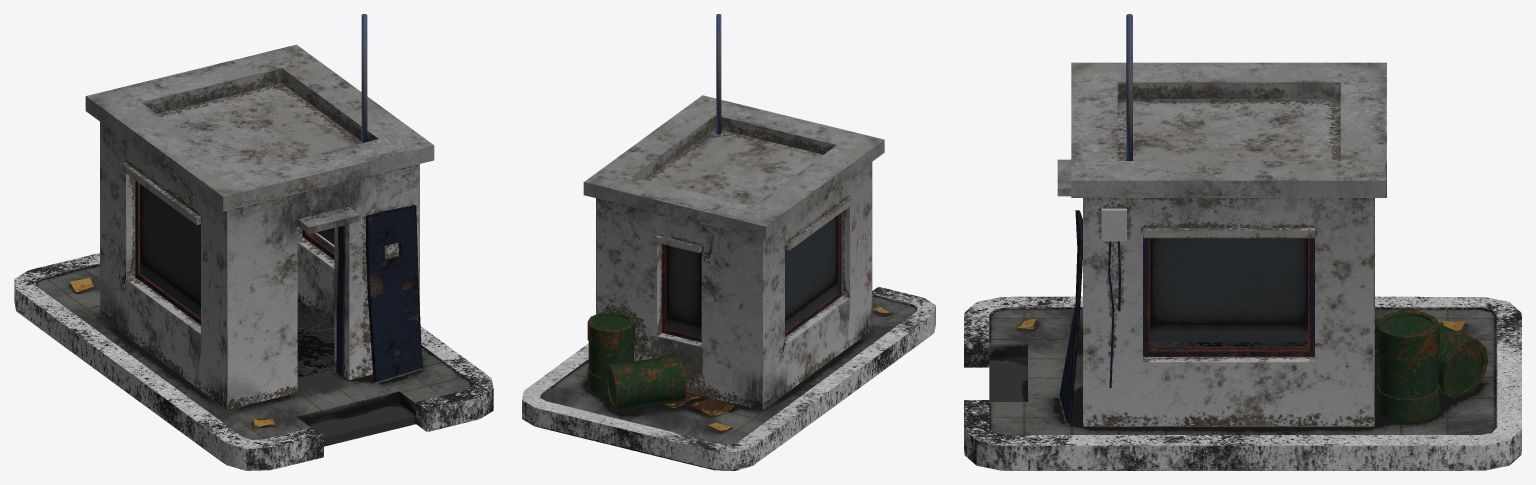
The model's file is bunker.fbx.
3 renders of one model, left to right at view 1: azimuth 30°, elevation 25°; view 2: azimuth 150°, elevation 25°; view 3: azimuth 270°, elevation 25°, orthographic. The views are drawn at different scales.
Visible parts, largest first — view 1: Cube.005, Cube, Cube.010, Cube.006, Cube.003, Cube.009, Cube.007, Cylinder.004; view 2: Cube.005, Cube, Cube.010, Cube.003, Cube.002, Cube.007, Cube.004, Cylinder.004; view 3: Cube.005, Cube, Cube.010, Cube.003, Cube.002, Cube.007, Cube.006, Cylinder.004, Cube.008, Cube.009, Cube.001.
Part boxes in pixels (bbox=[...]): Cube.005: bbox=[85, 44, 434, 409]; Cube: bbox=[14, 253, 493, 470]; Cube.010: bbox=[36, 265, 471, 446]; Cube.006: bbox=[336, 205, 422, 382]; Cube.003: bbox=[140, 184, 334, 317]; Cube.009: bbox=[297, 299, 334, 377]; Cube.007: bbox=[135, 180, 334, 324]; Cylinder.004: bbox=[361, 14, 367, 142]; Cube.005: bbox=[583, 95, 884, 410]; Cube: bbox=[522, 286, 935, 470]; Cube.010: bbox=[540, 296, 917, 444]; Cube.003: bbox=[666, 215, 837, 337]; Cube.002: bbox=[587, 311, 686, 411]; Cube.007: bbox=[661, 213, 841, 342]; Cube.004: bbox=[664, 306, 892, 430]; Cylinder.004: bbox=[716, 14, 721, 134]; Cube.005: bbox=[1057, 62, 1386, 426]; Cube: bbox=[964, 296, 1521, 470]; Cube.010: bbox=[989, 309, 1496, 434]; Cube.003: bbox=[1150, 238, 1307, 342]; Cube.002: bbox=[1376, 308, 1488, 422]; Cube.007: bbox=[1143, 238, 1314, 356]; Cube.006: bbox=[1059, 210, 1082, 423]; Cylinder.004: bbox=[1126, 14, 1132, 160]; Cube.008: bbox=[1101, 208, 1126, 241]; Cube.009: bbox=[1150, 342, 1307, 346]; Cube.001: bbox=[1108, 241, 1120, 387].
Size of the model in its own units: 126 by 164 by 200.
Materials: 12 (12 with a texture image).
